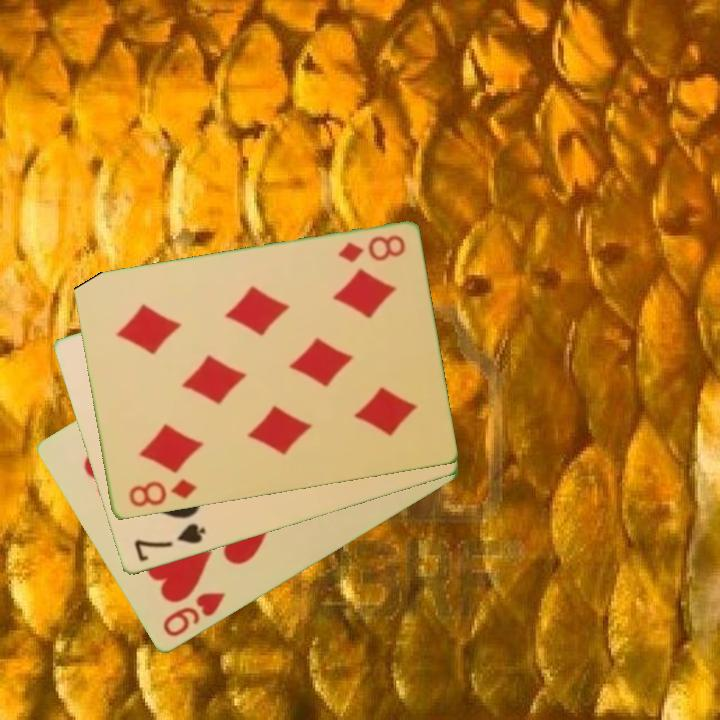7s: (130, 520, 208, 565)
8d: (125, 475, 199, 511), (334, 232, 408, 266)
9h: (159, 589, 228, 641)
